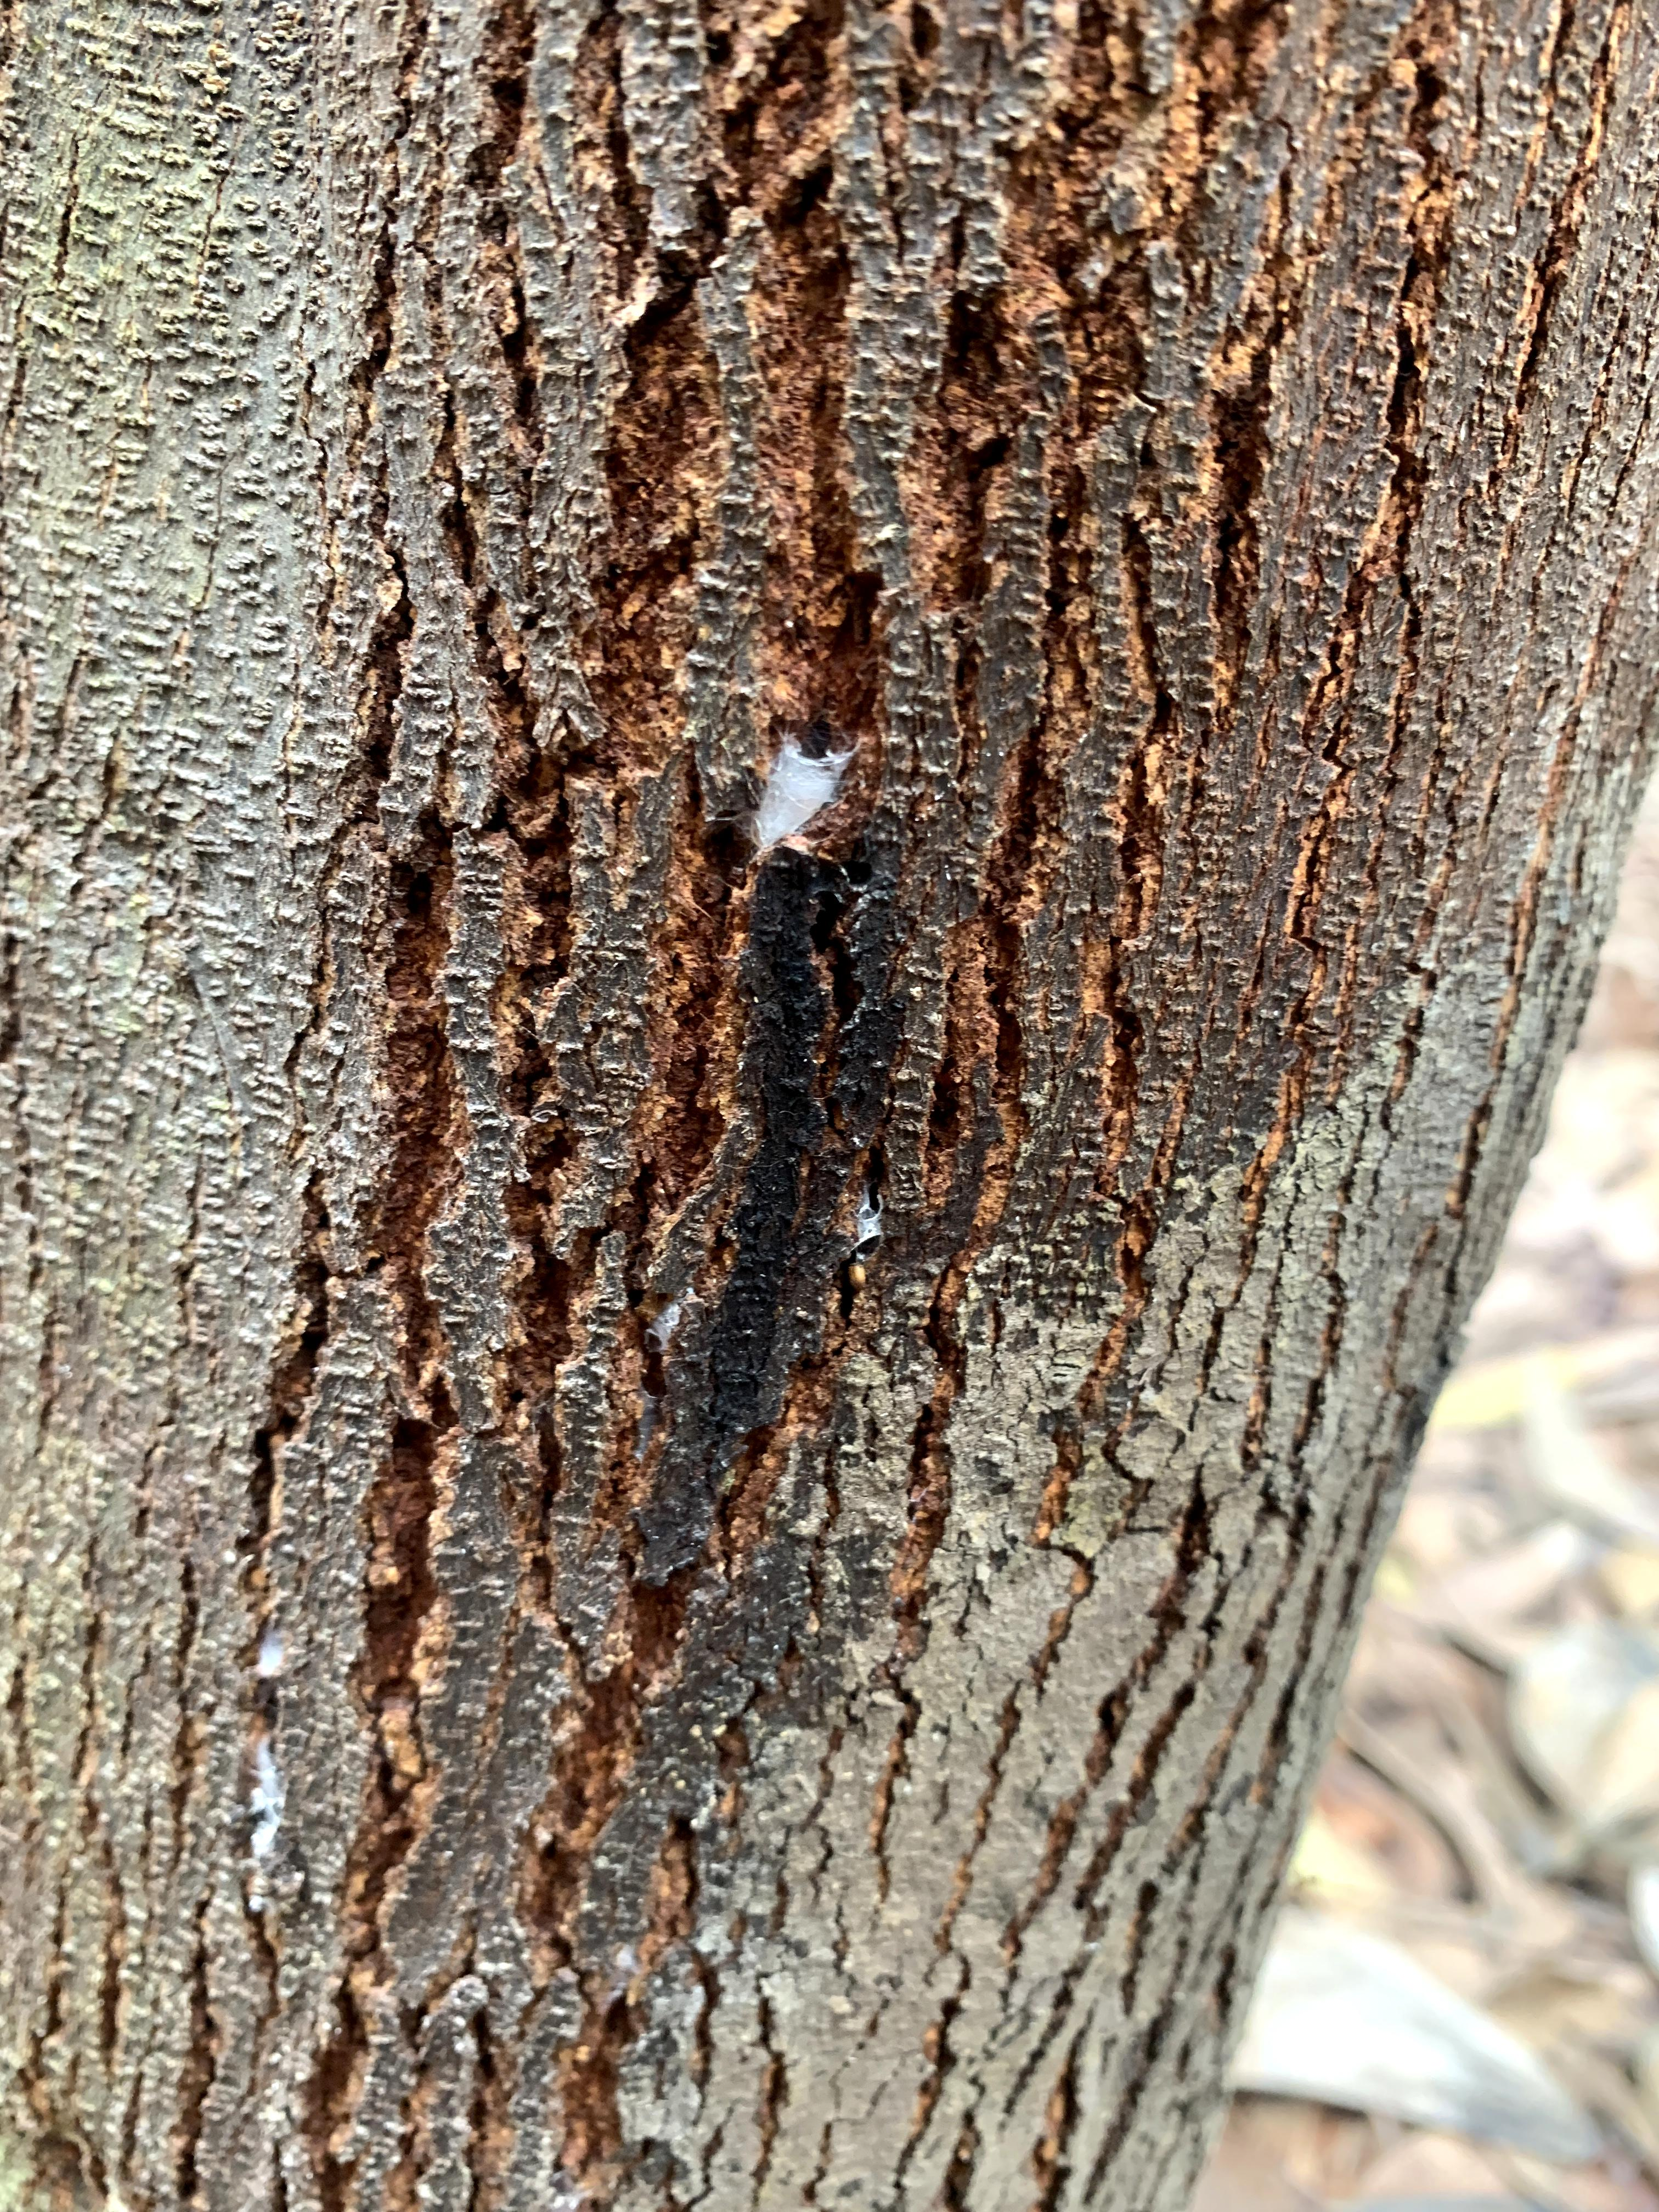Stem Deformation: (308, 0, 1659, 2212)
